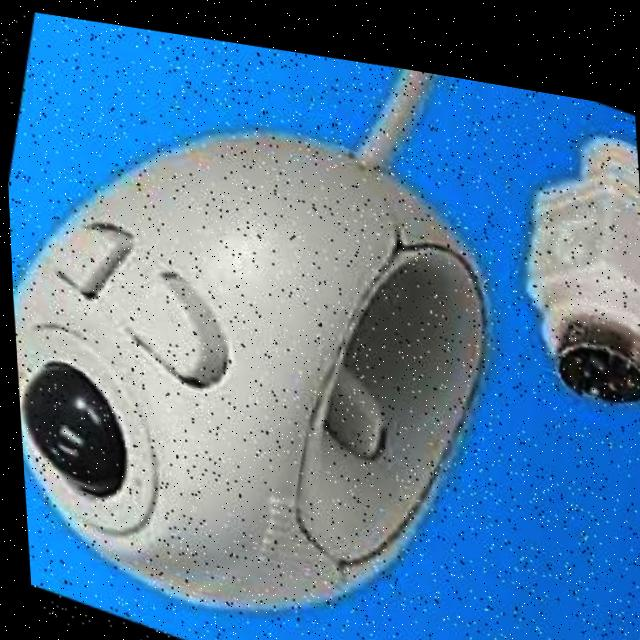mause: (0, 0, 598, 640)
